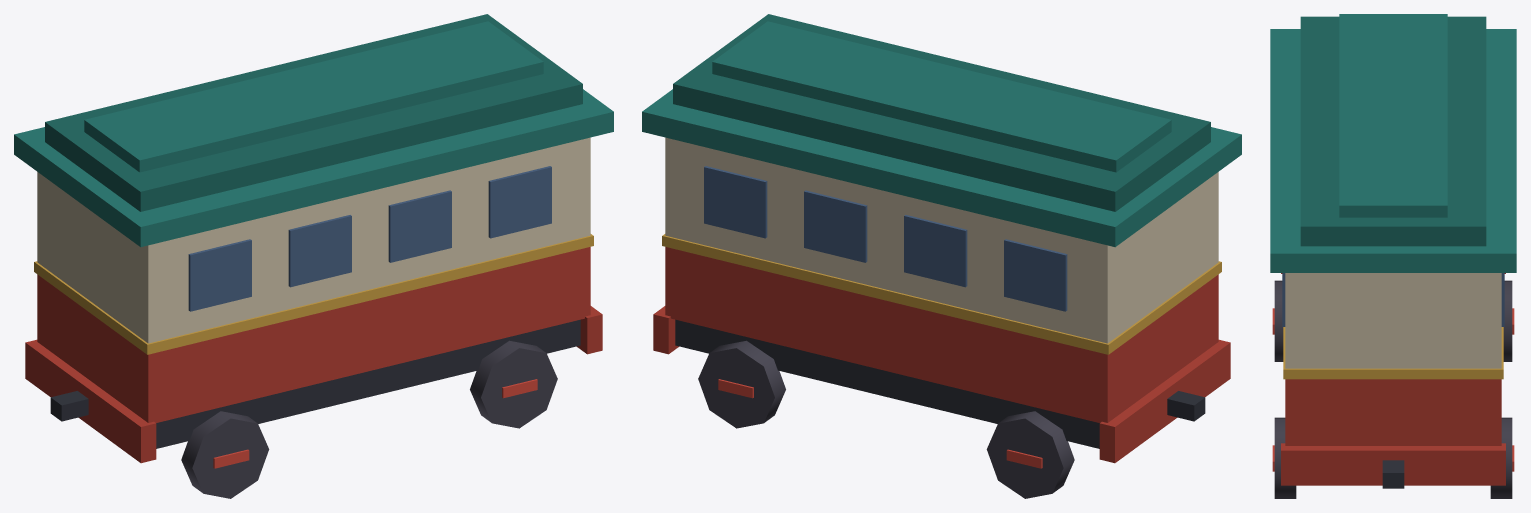
File: car_02.glb
The picture shows the model from 3 angles, left to right: view 1: azimuth 30°, elevation 25°; view 2: azimuth 150°, elevation 25°; view 3: azimuth 270°, elevation 25°; orthographic projection. The views are drawn at different scales.
Visible parts, largest first — view 1: car_02, Wheel3, Wheel1; view 2: car_02, Wheel2, Wheel0; view 3: car_02, Wheel2, Wheel3, Wheel0, Wheel1.
Part boxes in pixels (box(x1,y1,x2,y2)): car_02: box(14, 14, 613, 463); Wheel3: box(470, 340, 557, 428); Wheel1: box(181, 411, 269, 498); car_02: box(642, 14, 1241, 463); Wheel2: box(698, 340, 785, 428); Wheel0: box(986, 411, 1074, 498); car_02: box(1270, 14, 1516, 488); Wheel2: box(1490, 417, 1514, 498); Wheel3: box(1272, 417, 1296, 498); Wheel0: box(1503, 280, 1514, 361); Wheel1: box(1272, 280, 1283, 361).
Size of the model in its own units: 2.68 by 1.63 by 1.14.
